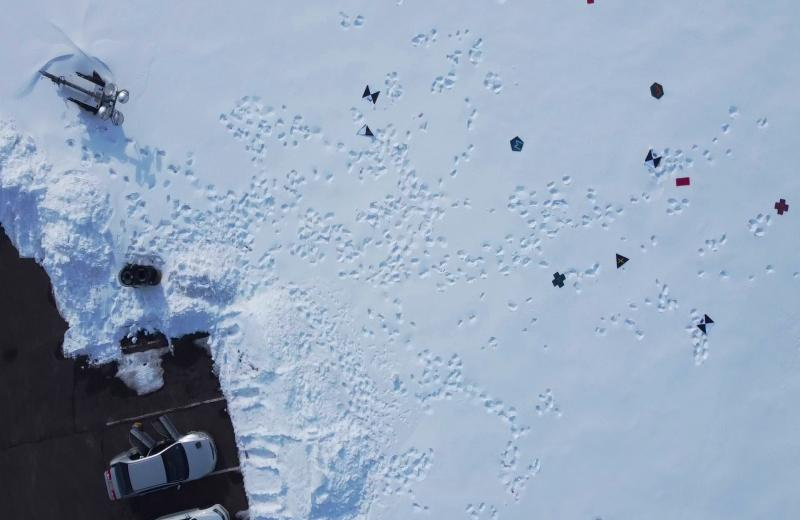Cross: (551, 271, 567, 289), (773, 198, 789, 215)
Hexagon: (650, 82, 666, 100)
Pentagon: (508, 135, 526, 155)
Rectangle: (674, 175, 691, 189)
Triangle: (614, 250, 630, 271)
